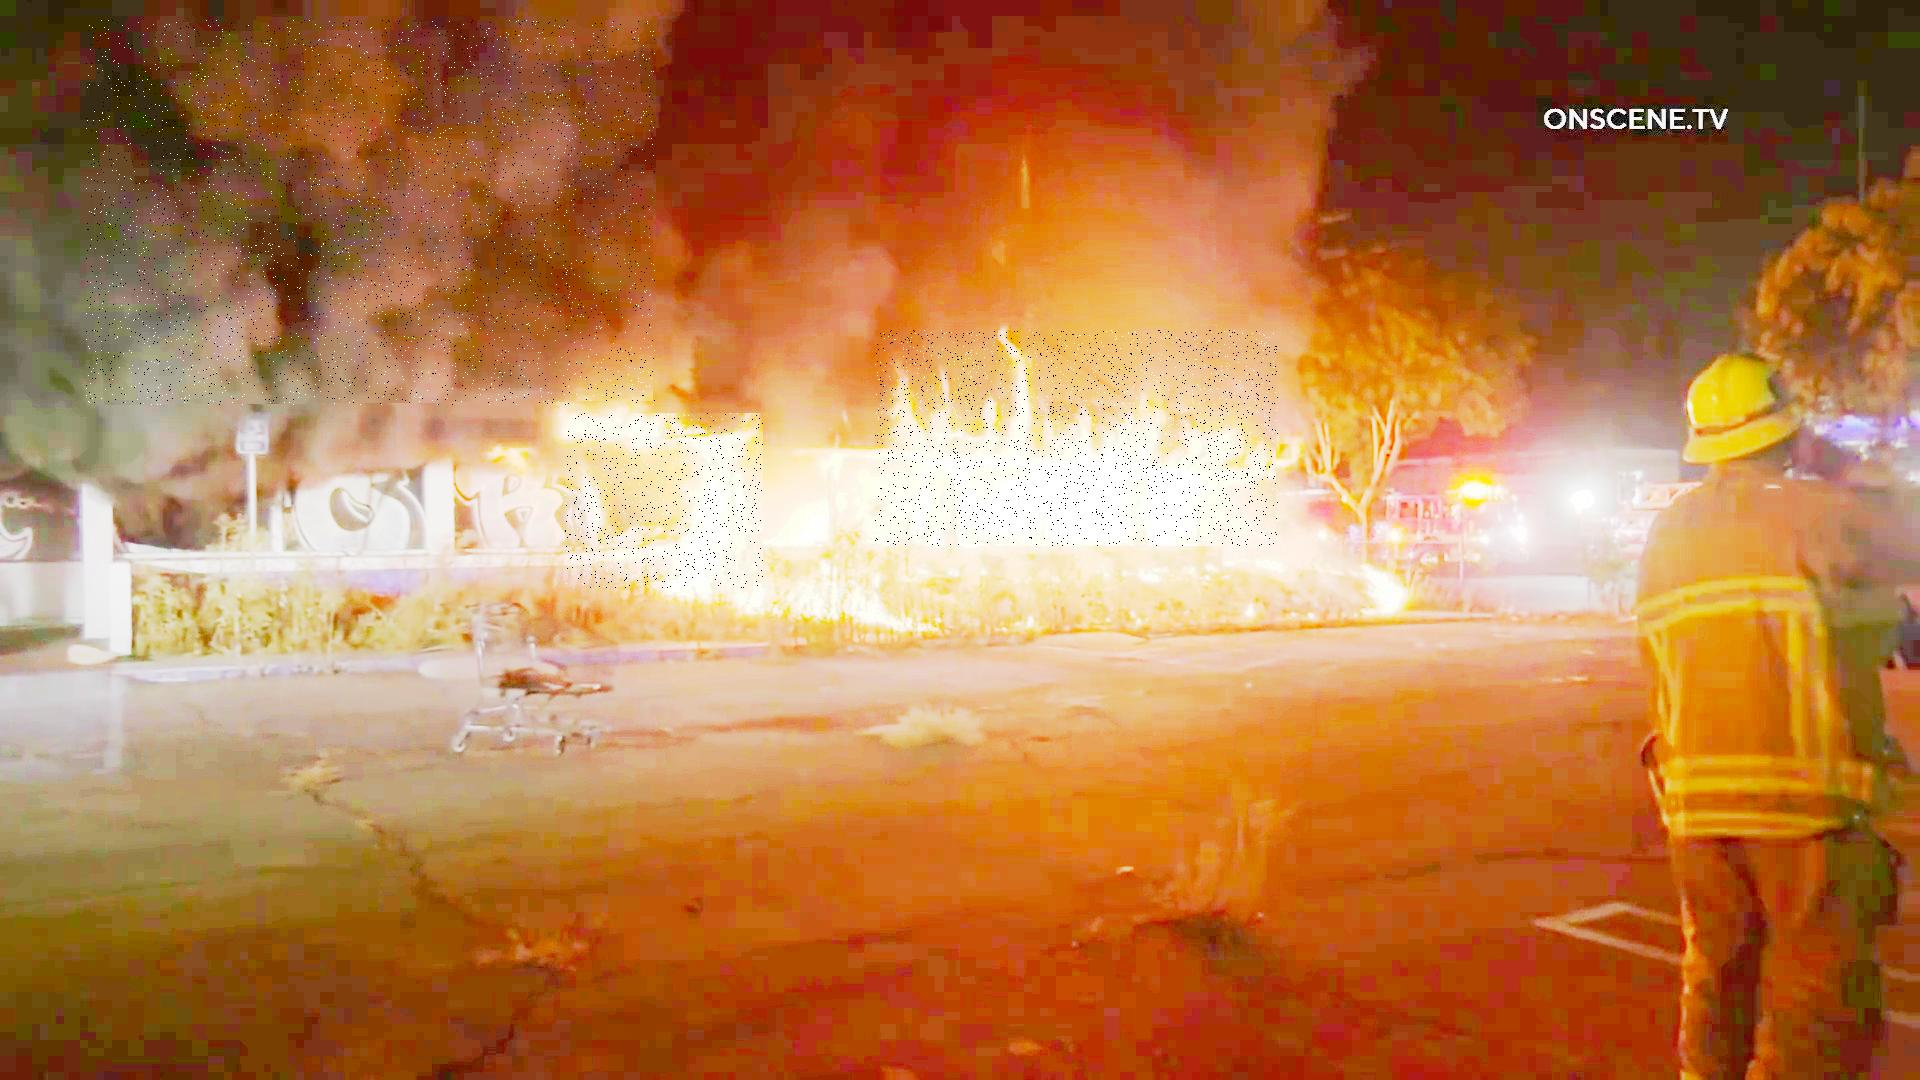fire: (876, 331, 1279, 546), (566, 413, 764, 588)
smoke: (87, 20, 655, 405)
